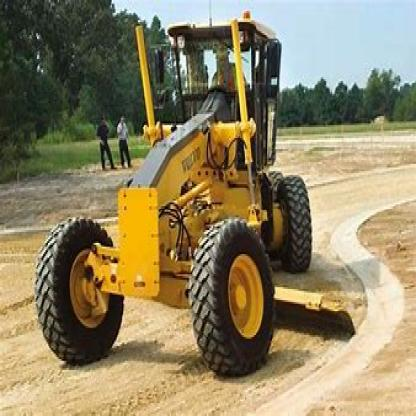bull_dozer/loader/grader: (38, 9, 358, 374)
